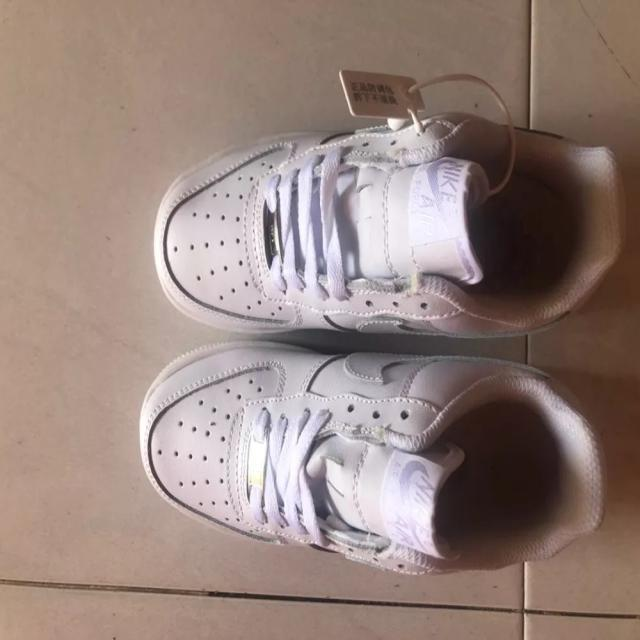nike fake air force: (135, 336, 606, 584), (153, 118, 630, 342)
